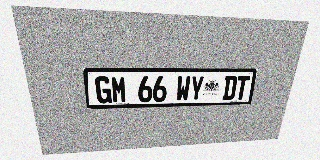6: (138, 76, 152, 102), (153, 76, 167, 102)
D: (222, 76, 238, 100)
G: (94, 76, 112, 103)
M: (111, 76, 127, 103)
T: (234, 76, 250, 100)
W: (176, 76, 191, 101)
Y: (189, 76, 204, 101)
